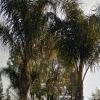Palm tree: (5, 2, 95, 90)
